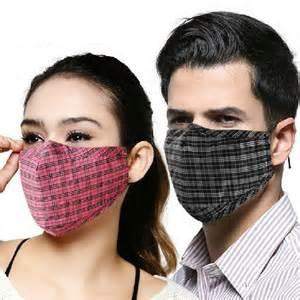OK: (163, 105, 273, 216), (18, 109, 128, 219)
